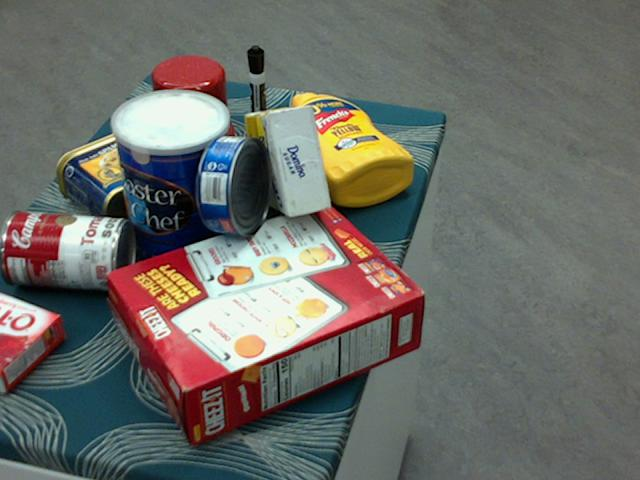cracker_box: (106, 200, 424, 444)
gelatin_box: (0, 291, 66, 393)
large_marker: (246, 45, 266, 149)
master_chef_can: (110, 91, 234, 277)
mug: (150, 56, 233, 156)
mustard_bottle: (284, 91, 413, 206)
potted_meat_can: (55, 129, 186, 229)
sugar_box: (241, 106, 330, 217)
tomato_soup_can: (0, 207, 134, 292)
tuna_fish_can: (195, 134, 271, 235)
